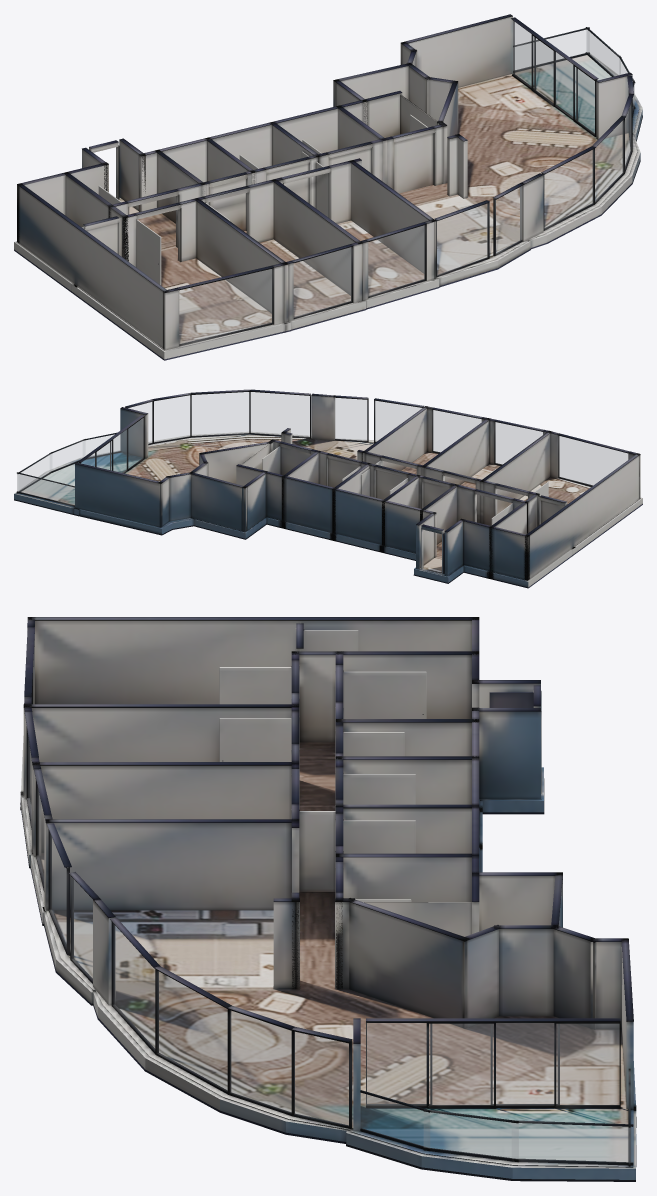
3 views of the same model, one above another, from view 1: azimuth 30°, elevation 25°; view 2: azimuth 150°, elevation 25°; view 3: azimuth 270°, elevation 25° (orthographic). The views are drawn at different scales.
Parts seen in each view (by area): view 1: plan, glass1_m, glass0_m, glass2_m, glass3_m, glass4_m, glass6_m, glass7_m, railg0_m, glass5_m, railg1_m; view 2: plan, glass6_m, glass7_m, glass1_m, glass0_m, glass8_m, glass5_m, glass3_m, glass2_m, railg0_m, glass4_m, railg2_m (+3 smaller); view 3: plan, glass0_m, glass7_m, glass8_m, glass9_m, railg1_m, railg2_m, glass6_m, railg3_m, glass5_m, glass4_m.
Boxes of the visible parts, x1,y1,x2,y2 form: plan: (14,14,642,360); glass1_m: (179,269,272,343); glass0_m: (513,21,594,133); glass2_m: (294,247,351,316); glass3_m: (368,225,424,295); glass4_m: (437,204,487,274); glass6_m: (544,150,593,227); glass7_m: (595,120,623,201); railg0_m: (515,30,588,69); glass5_m: (496,186,521,253); railg1_m: (587,30,620,75); plan: (14,389,642,588); glass6_m: (251,392,309,436); glass7_m: (192,392,248,435); glass1_m: (559,436,627,485); glass0_m: (81,418,143,472); glass8_m: (154,395,189,442); glass5_m: (335,398,366,440); glass3_m: (433,410,481,452); glass2_m: (495,422,542,464); railg0_m: (17,474,74,504); glass4_m: (375,401,421,441); railg2_m: (50,441,84,471); plan: (20,617,636,1181); glass0_m: (366,1023,619,1105); glass7_m: (158,971,227,1090); glass8_m: (230,1010,291,1112); glass9_m: (294,1032,348,1125); railg1_m: (512,1123,632,1162); railg2_m: (424,1112,518,1158); glass6_m: (114,925,154,1049); railg3_m: (361,1093,429,1148); glass5_m: (72,878,92,979); glass4_m: (50,834,66,946).
Size of the model in its own units: 25.71 by 2.62 by 14.4.
Materials: 2 (1 with a texture image).
